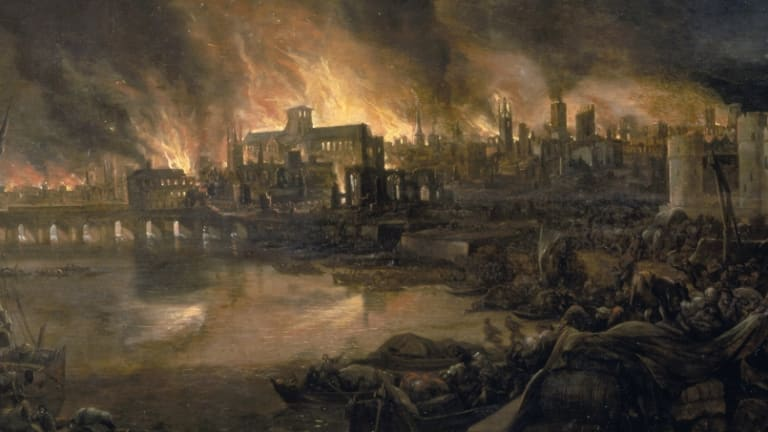Fire: (316, 70, 370, 126)
